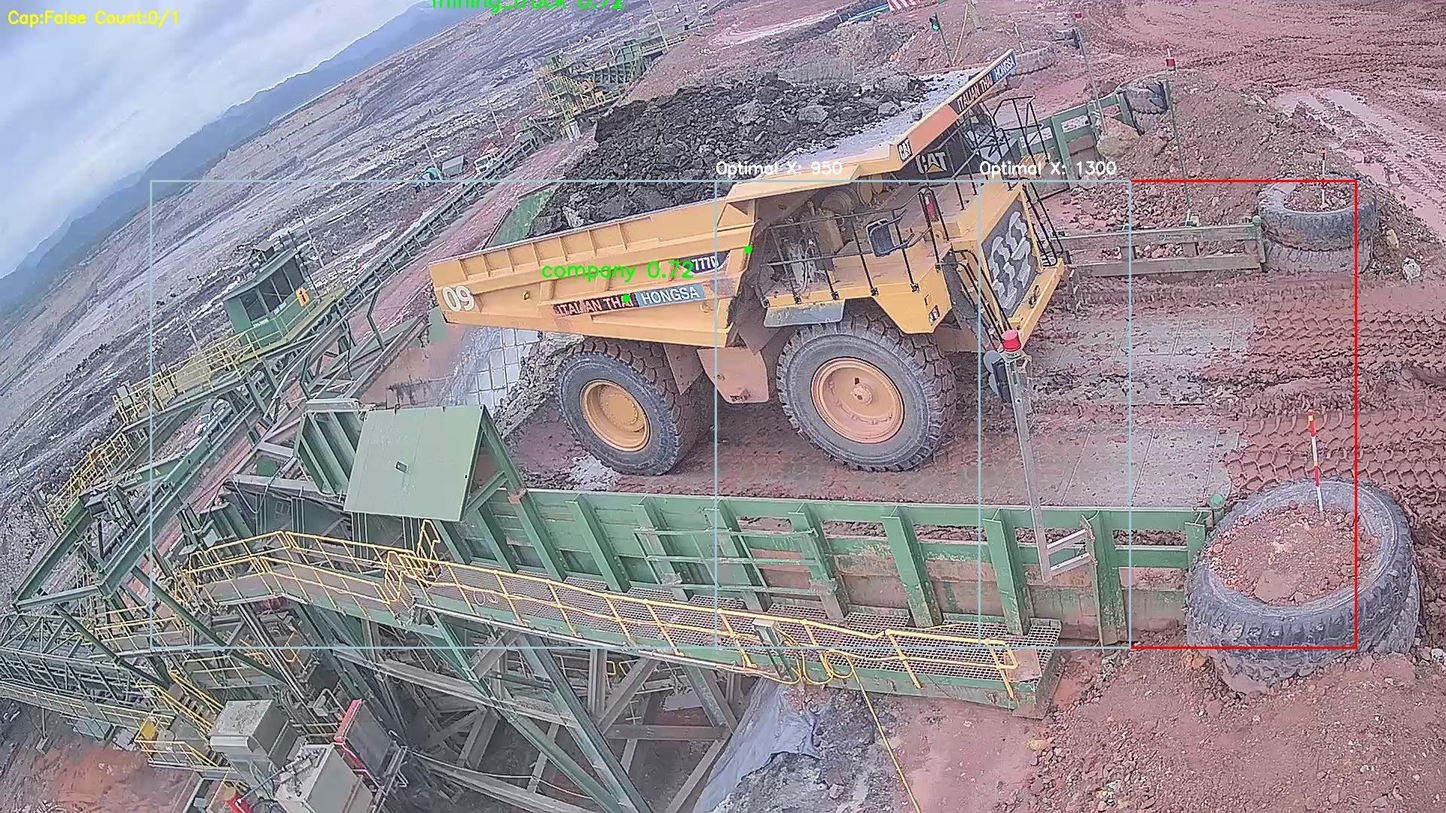company: (542, 281, 714, 318)
full_load: (528, 81, 823, 229)
mining_truck: (428, 48, 1094, 479)
tail_number: (438, 281, 481, 319)
truck_size: (680, 249, 728, 276)
